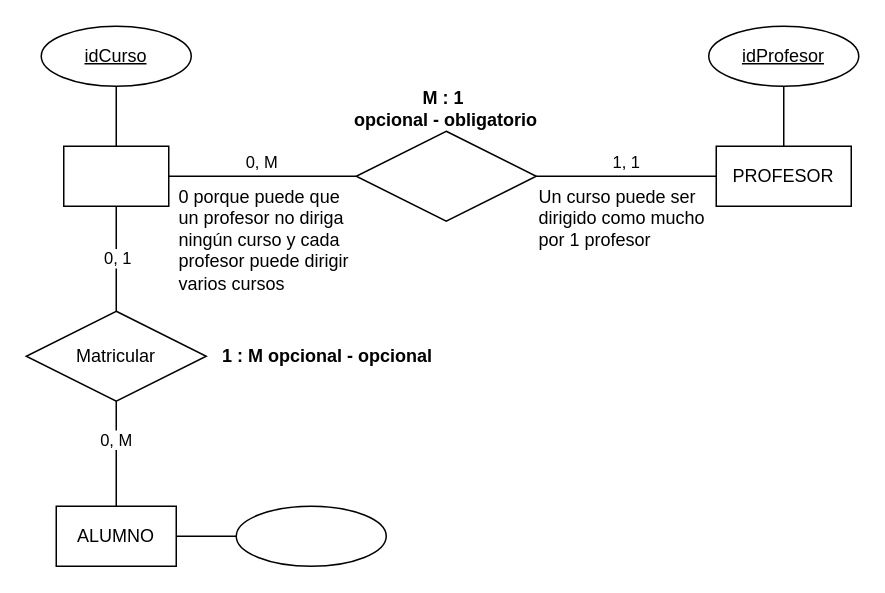
Image size: 885x593. Some labels were removed from this diagram. Here are the shapes that lost their labels. From the top down, the centre of each, then its label:
the point at 115,175: CURSO
the point at 445,175: Dirigir
the point at 310,535: idAlumno
